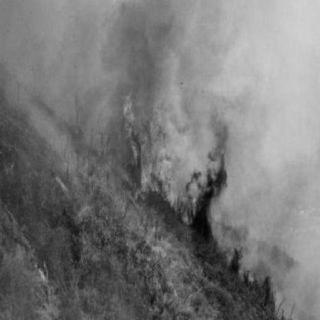Fire: (117, 91, 174, 203), (171, 160, 217, 230), (217, 237, 257, 287)
